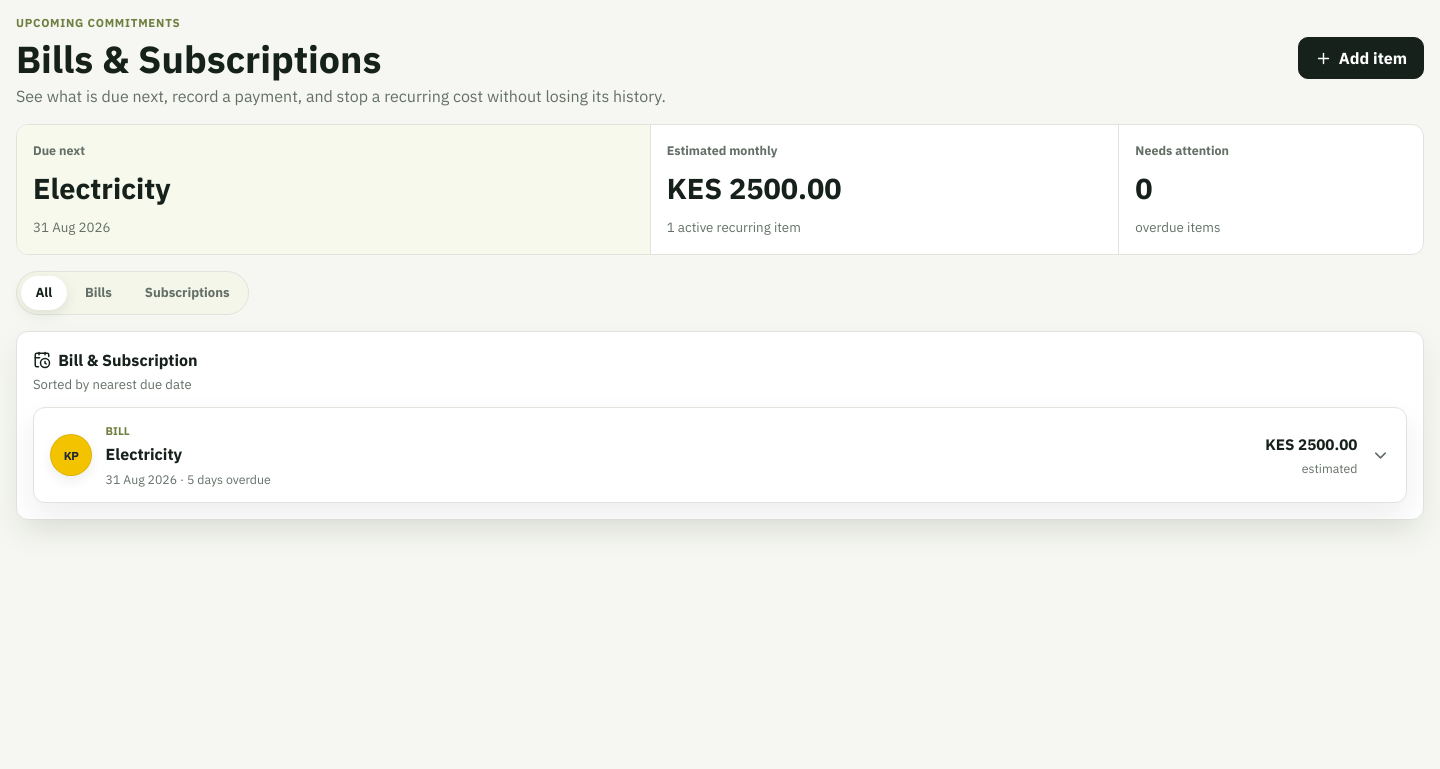
Bills and subscriptions › records an actual payment and receives the advanced due date
Click the button "bill Electricity 31 Aug 2026": (71, 455) [34,408,1406,502]
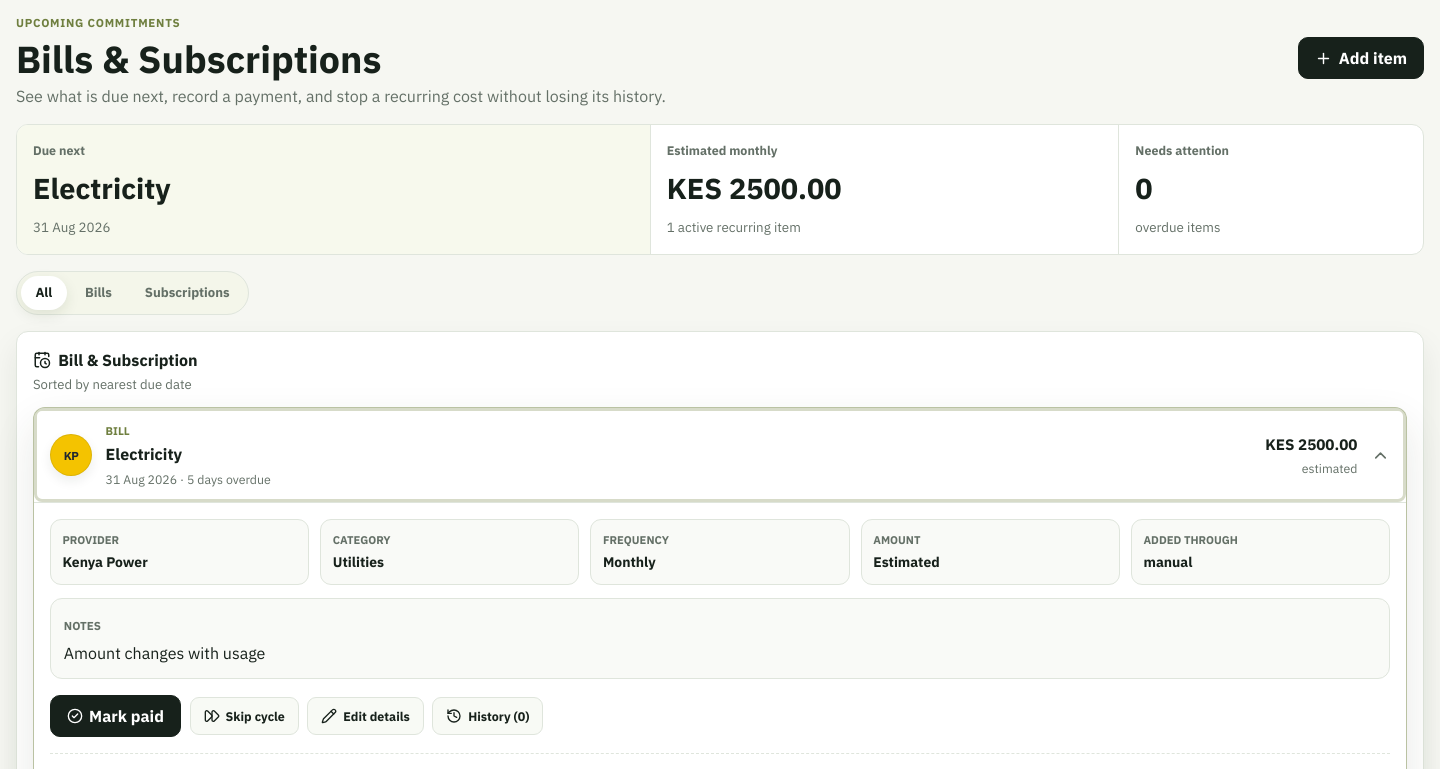
Click the button "Mark paid": (115, 716) [50,695,181,737]
(page scrolled)
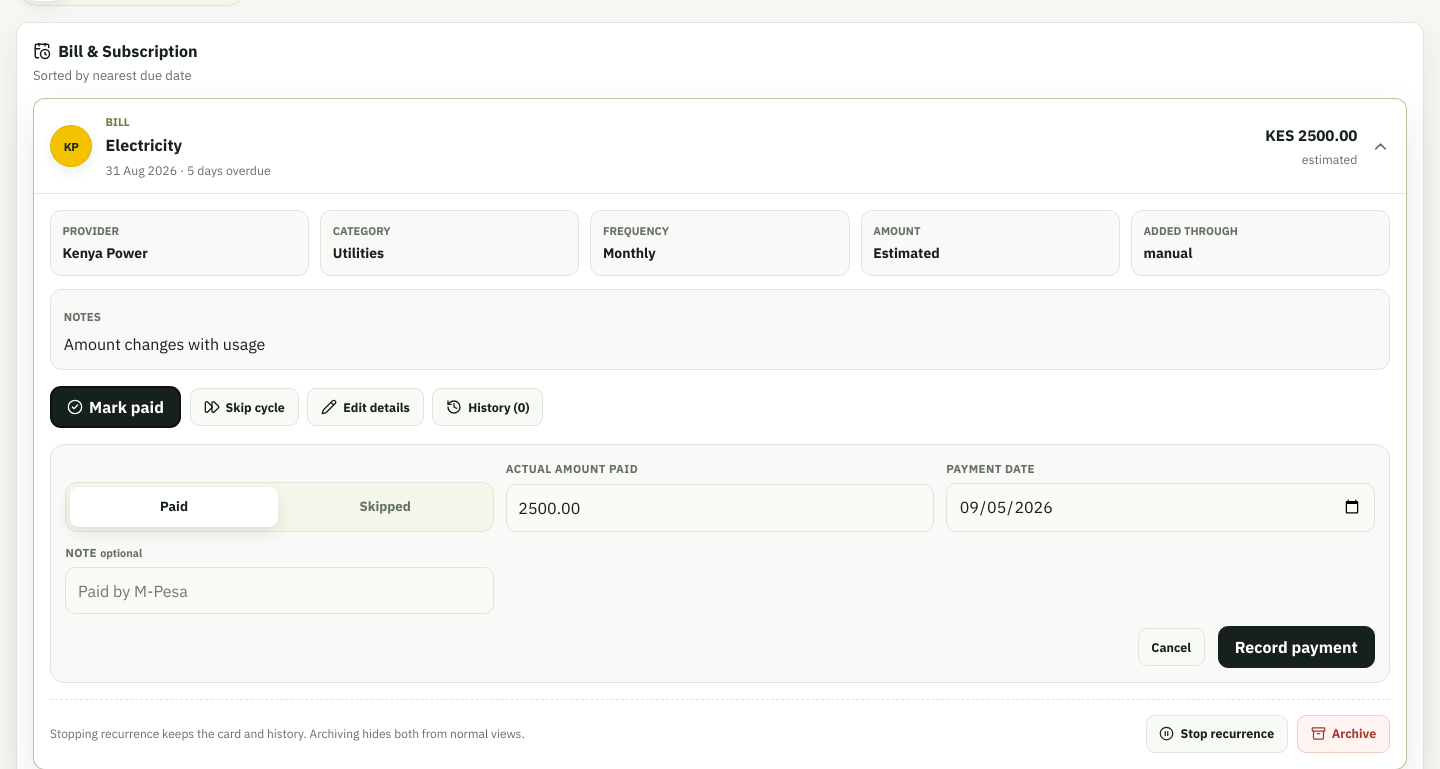
Replace the text in the number field labelled "Actual amount paid" with "2300": (720, 508) [506,484,934,532]
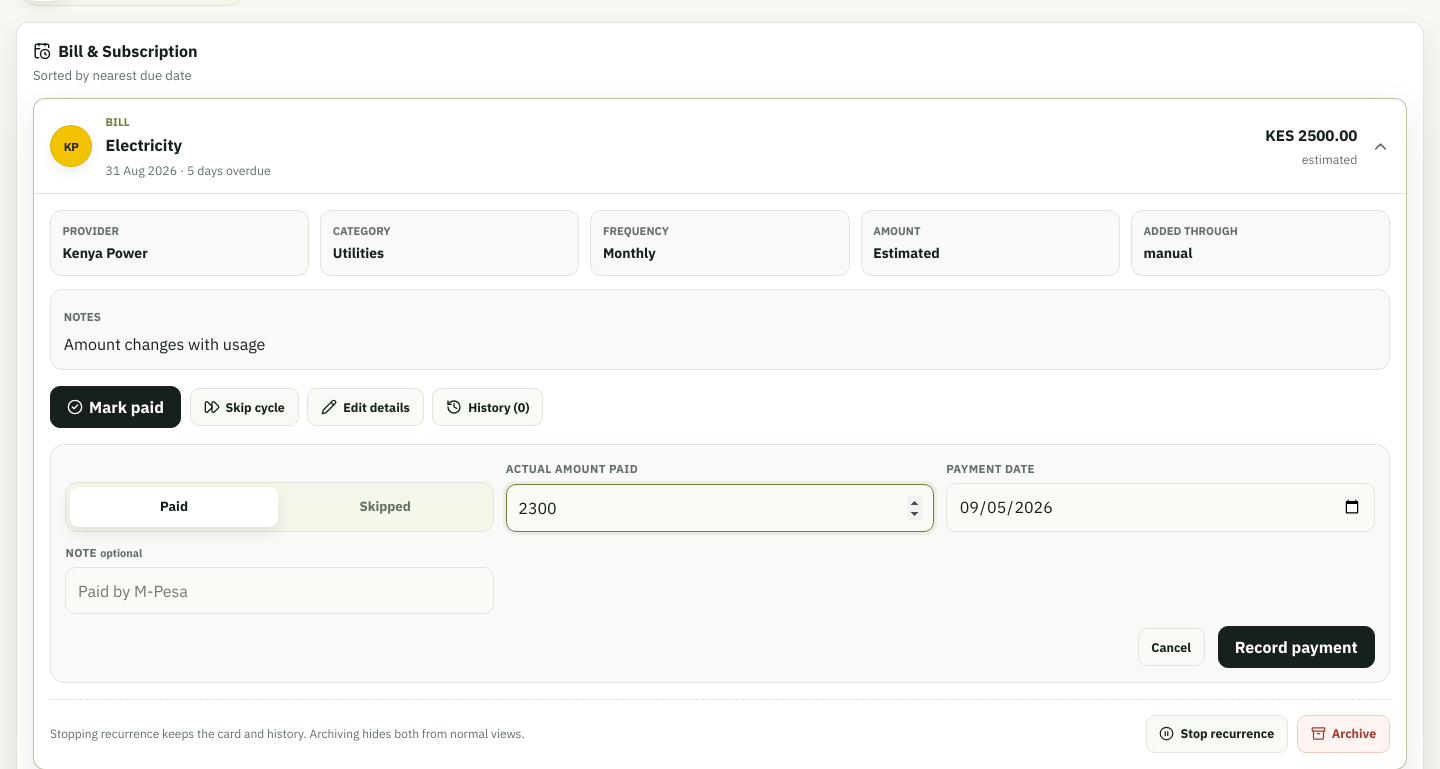
In the date field labelled "Payment date": (1160, 507) [946,483,1375,532], type "2026-08-29"
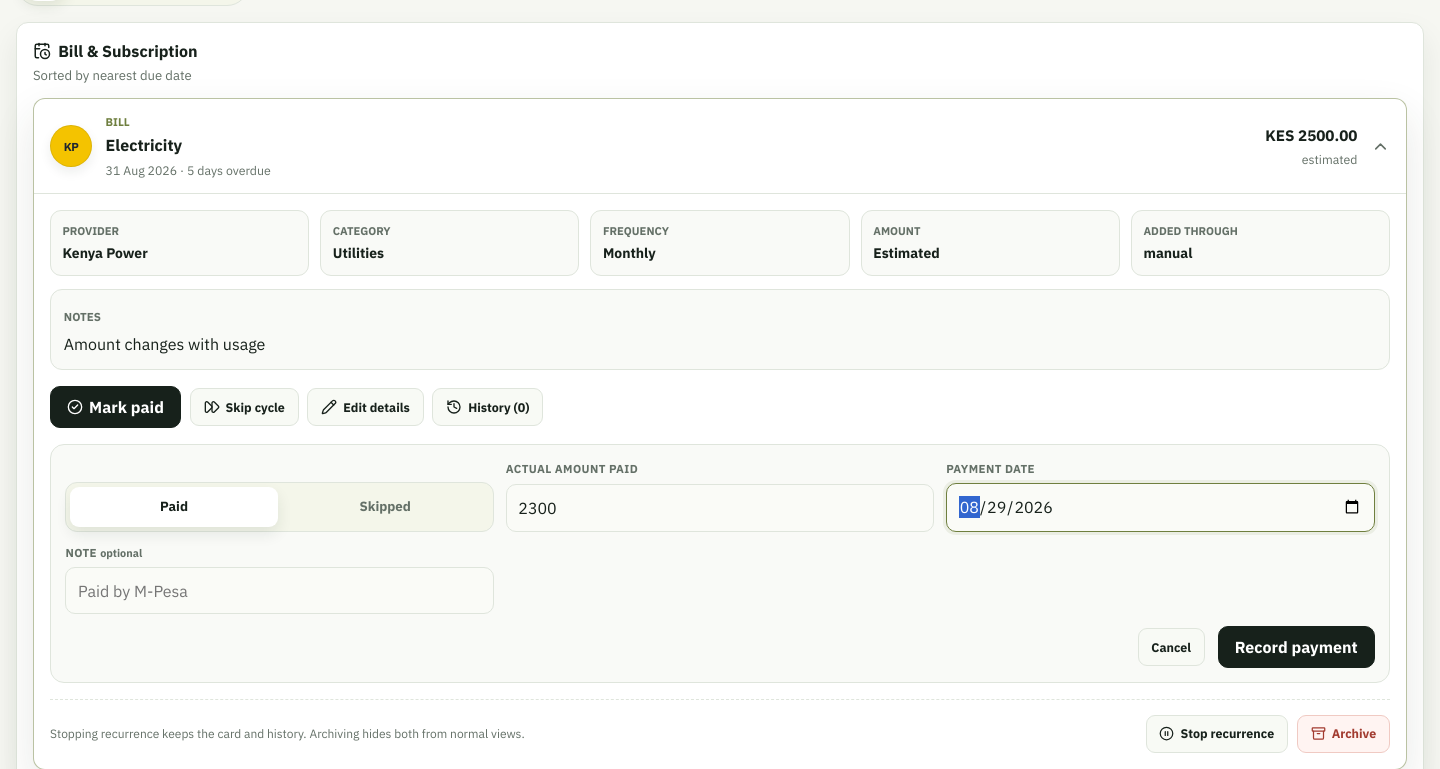
In the field labelled "Note optional": (280, 591) [65,567,494,614], type "Paid early"
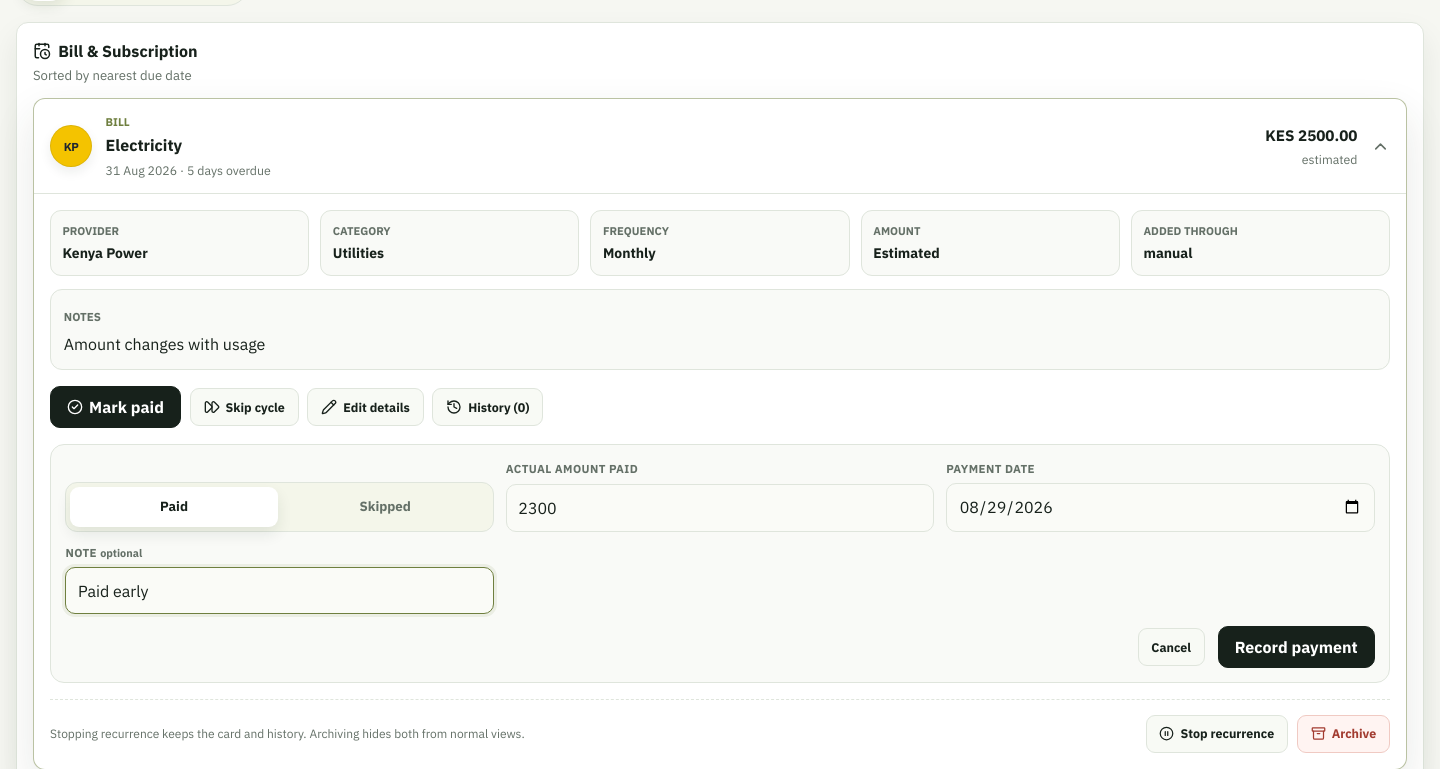
Click the button "Record payment": (1296, 647) [1218,626,1375,668]
(page scrolled)
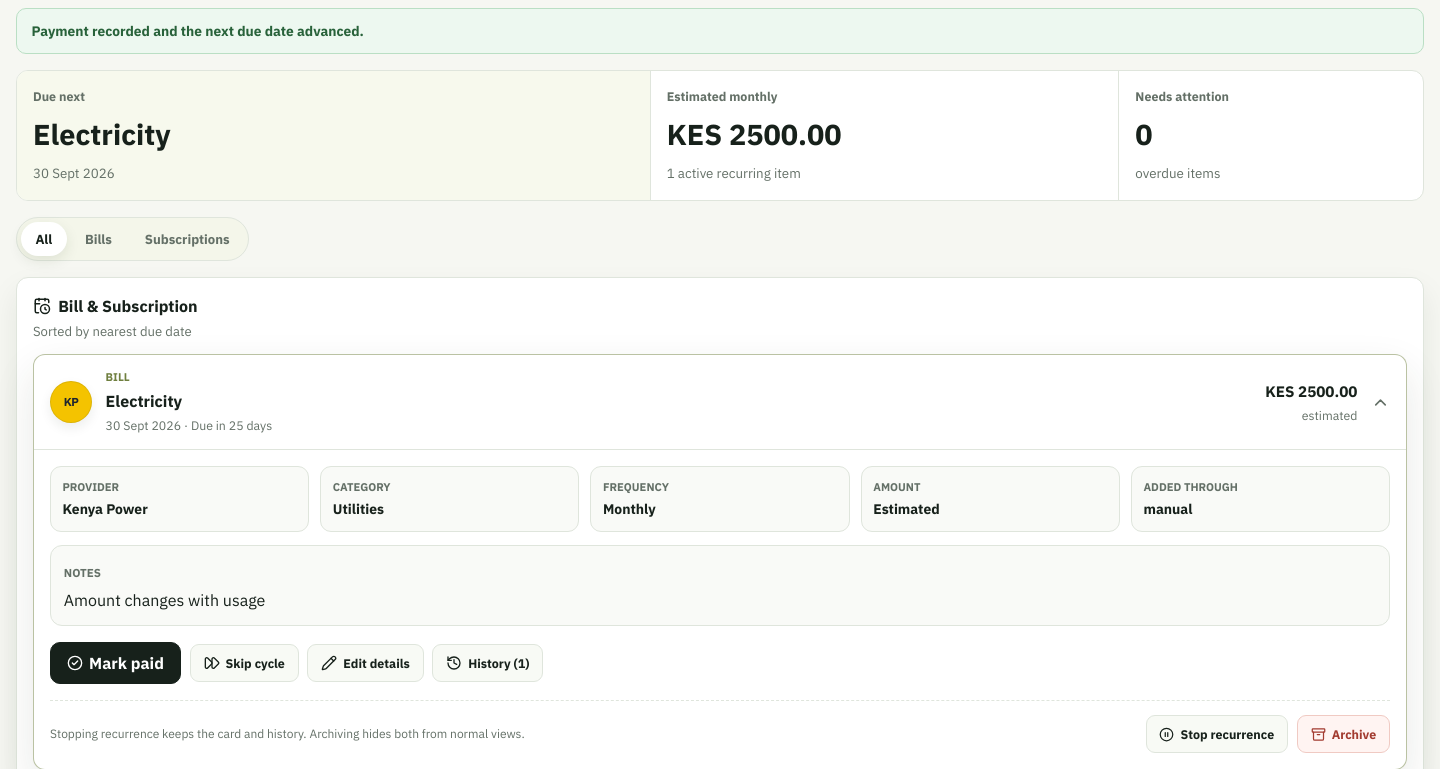
Now the text "Payment recorded and the next due date advanced." is shown, box [16,8,1424,54]
